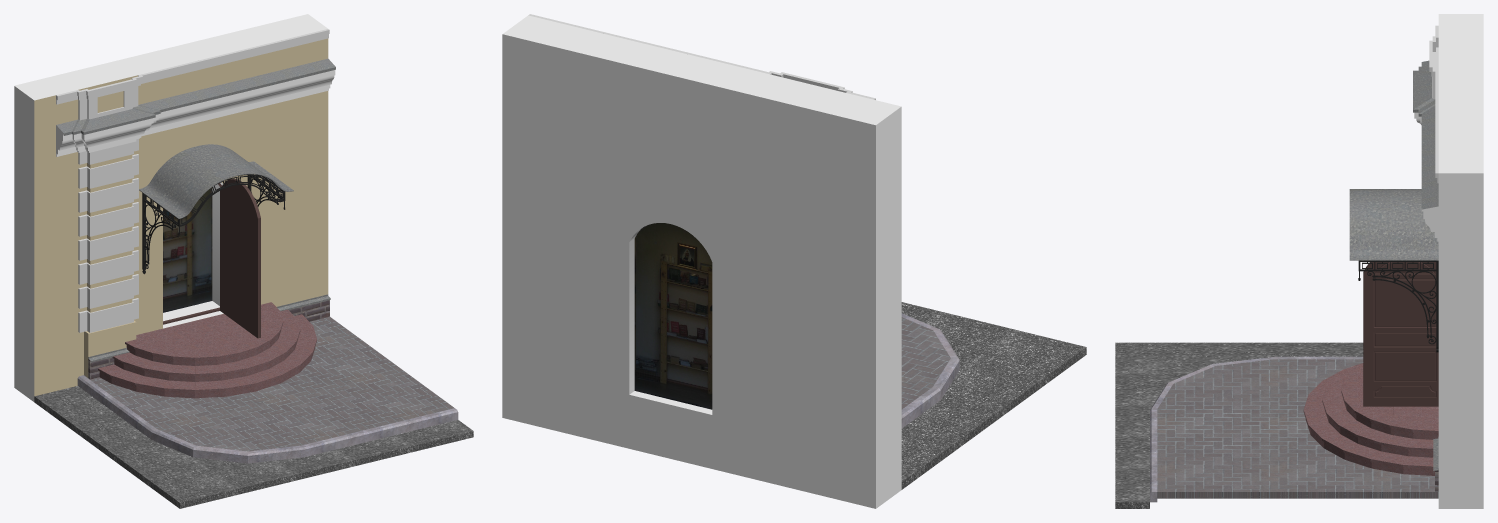
The model's file is door03.FBX.
The picture shows the model from 3 angles, left to right: view 1: azimuth 30°, elevation 25°; view 2: azimuth 150°, elevation 25°; view 3: azimuth 270°, elevation 25°; orthographic projection. The views are drawn at different scales.
Visible parts, largest first — view 1: Rectangle11, Rectangle06, Line11, Rectangle54, Rectangle35, Loft01, Rectangle55, Line12, Rectangle04, Shape01, Loft02, Line05 (+1 smaller); view 2: Rectangle11, Line11, Rectangle04, Rectangle06, Line12, Loft02; view 3: Rectangle06, Rectangle11, Line11, Rectangle55, Rectangle54, Shape01, Loft01, Line05, Line12, Loft02.
Boxes of the visible parts, x1,y1,x2,y2 form: Rectangle11: (14, 14, 328, 401); Rectangle06: (84, 317, 454, 451); Line11: (34, 386, 473, 508); Rectangle54: (98, 302, 316, 398); Rectangle35: (78, 139, 138, 332); Loft01: (56, 58, 335, 156); Rectangle55: (220, 178, 260, 338); Line12: (77, 375, 458, 463); Rectangle04: (163, 187, 212, 312); Shape01: (139, 144, 293, 218); Loft02: (56, 29, 329, 120); Line05: (142, 174, 285, 274); Rectangle11: (502, 15, 901, 508); Line11: (901, 302, 1086, 489); Rectangle04: (634, 223, 712, 409); Rectangle06: (901, 317, 950, 409); Line12: (901, 313, 959, 428); Loft02: (528, 14, 875, 99); Rectangle06: (1157, 359, 1438, 498); Rectangle11: (1438, 14, 1483, 508); Line11: (1115, 342, 1363, 508); Rectangle55: (1363, 262, 1438, 406); Rectangle54: (1303, 363, 1438, 475); Shape01: (1349, 189, 1438, 260); Loft01: (1413, 60, 1440, 241); Line05: (1358, 260, 1438, 352); Line12: (1150, 356, 1363, 502); Loft02: (1429, 25, 1438, 183).
Bounding box in the file's own units: 1029 × 1005 × 1010.
